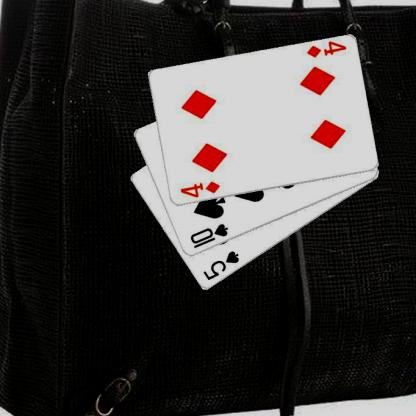10S: (188, 222, 230, 250)
4D: (177, 179, 221, 199), (304, 40, 347, 59)
5S: (201, 248, 240, 282)
